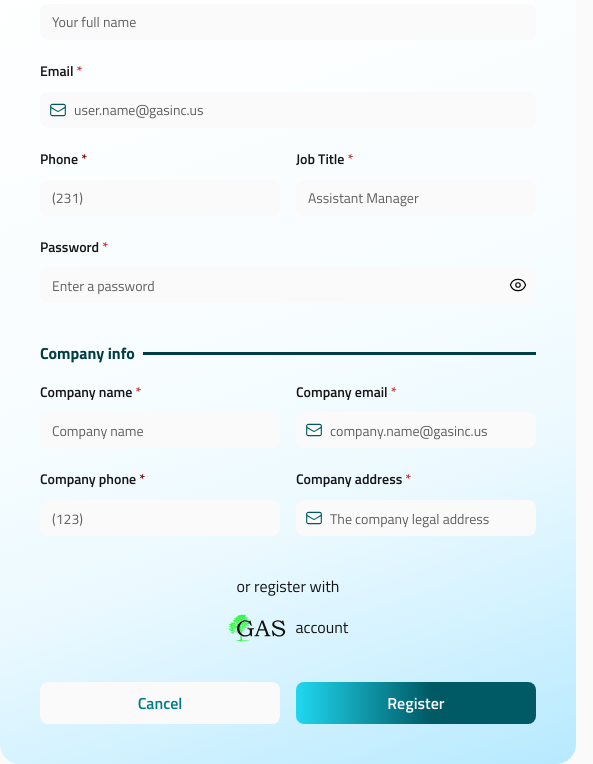
Test: RegisterForm Component › should show error for company address when address field is empty
The width and height of the screenshot is (593, 764).
(page scrolled)
In the field with test id "company-address-input": (416, 518) [296,500,536,536], type "sd"
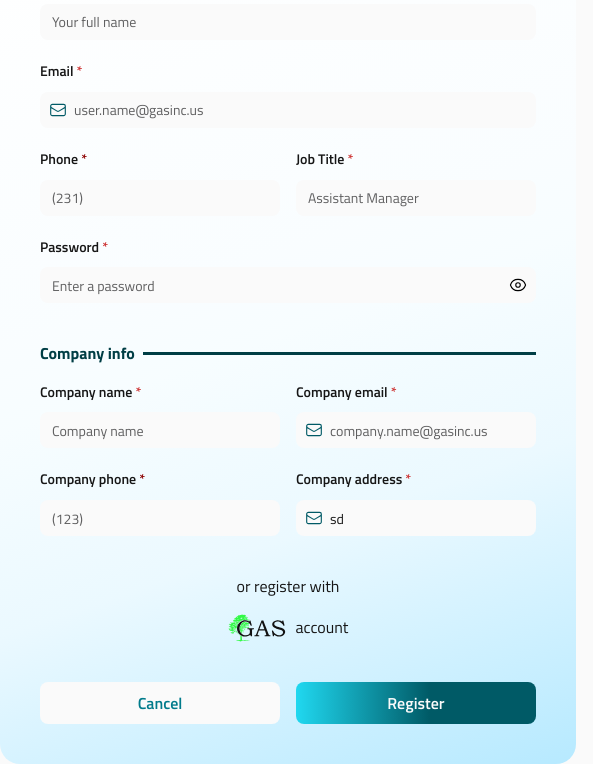
Press Tab
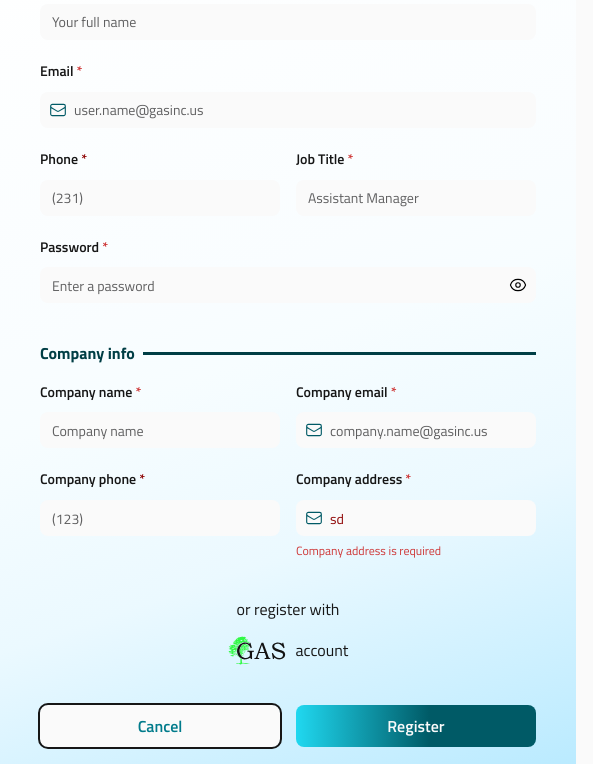
Result: the text "Company address is required" is shown at [296,541,441,560]
